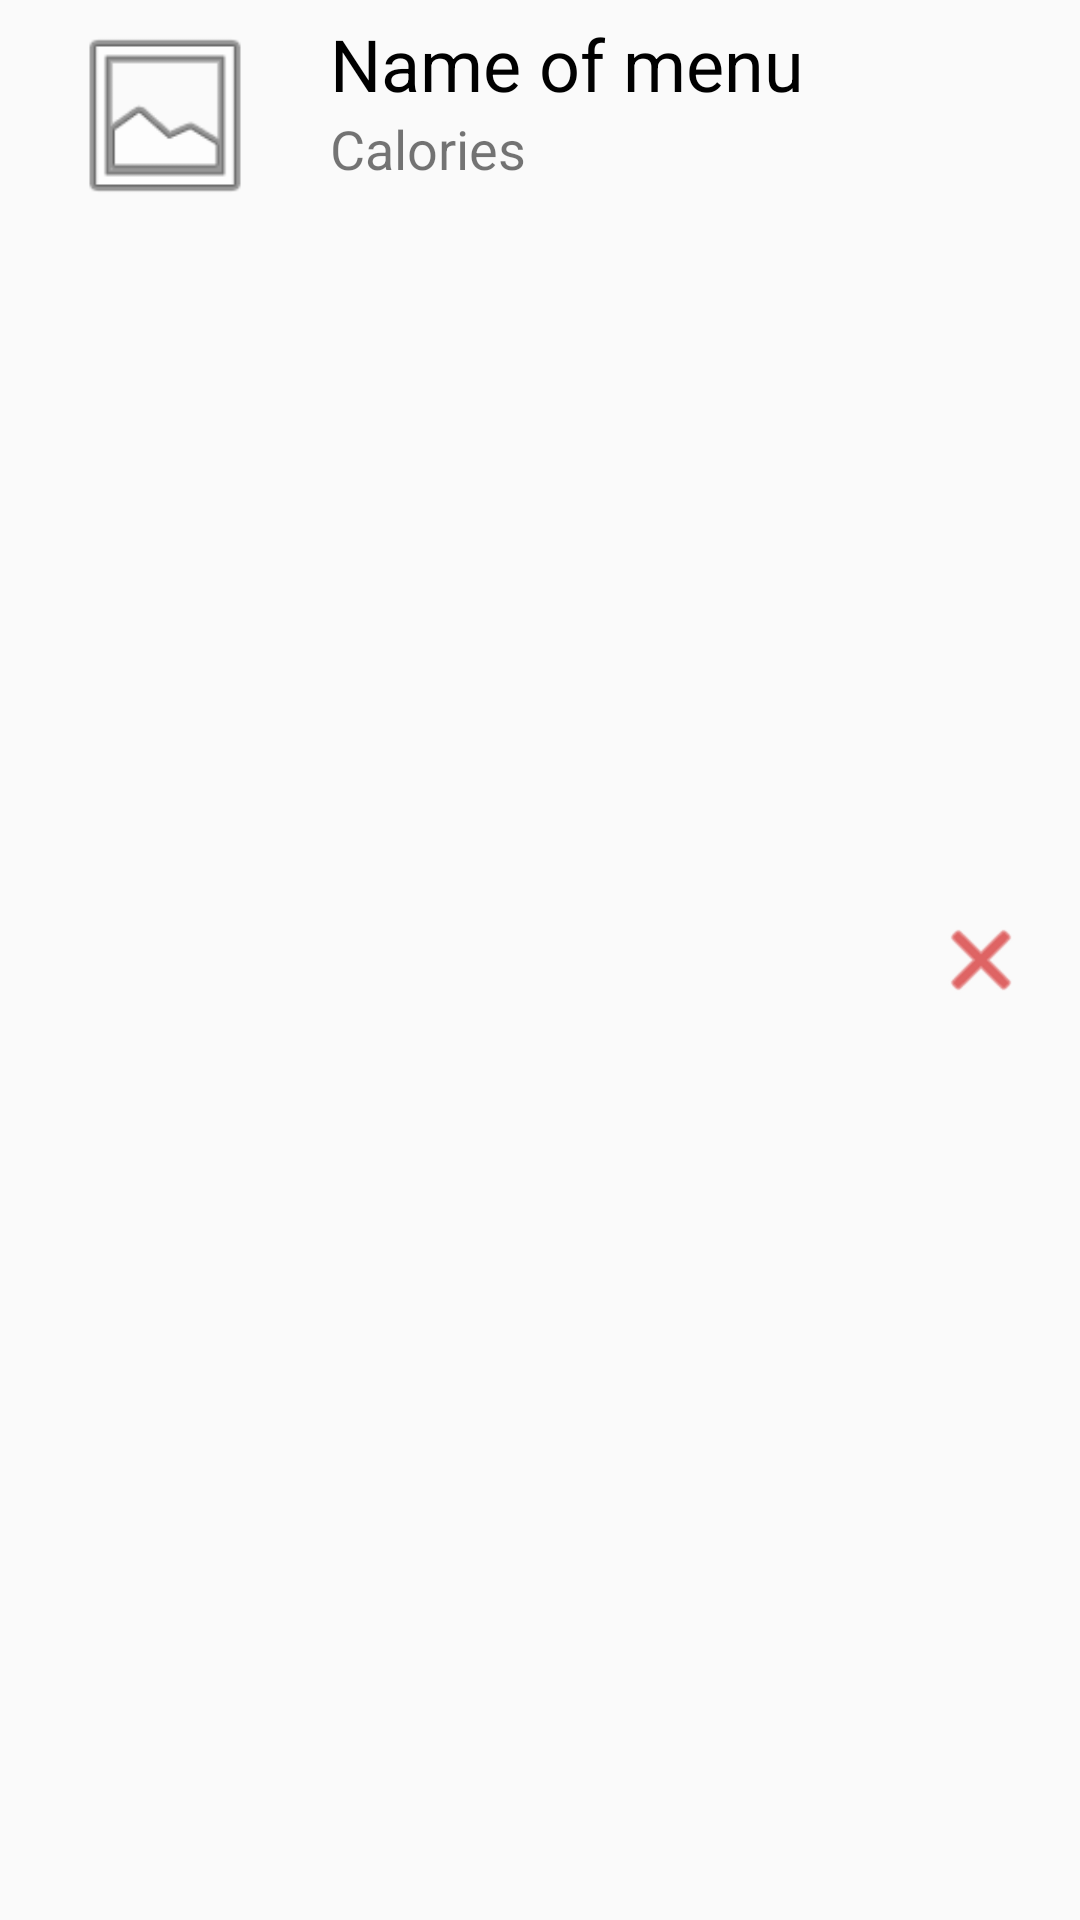

Icon click points for this 1080px×1920px phone screenshot, format (x,y):
Button to cancel a Class: (981,960)
gallery: (165,115)
